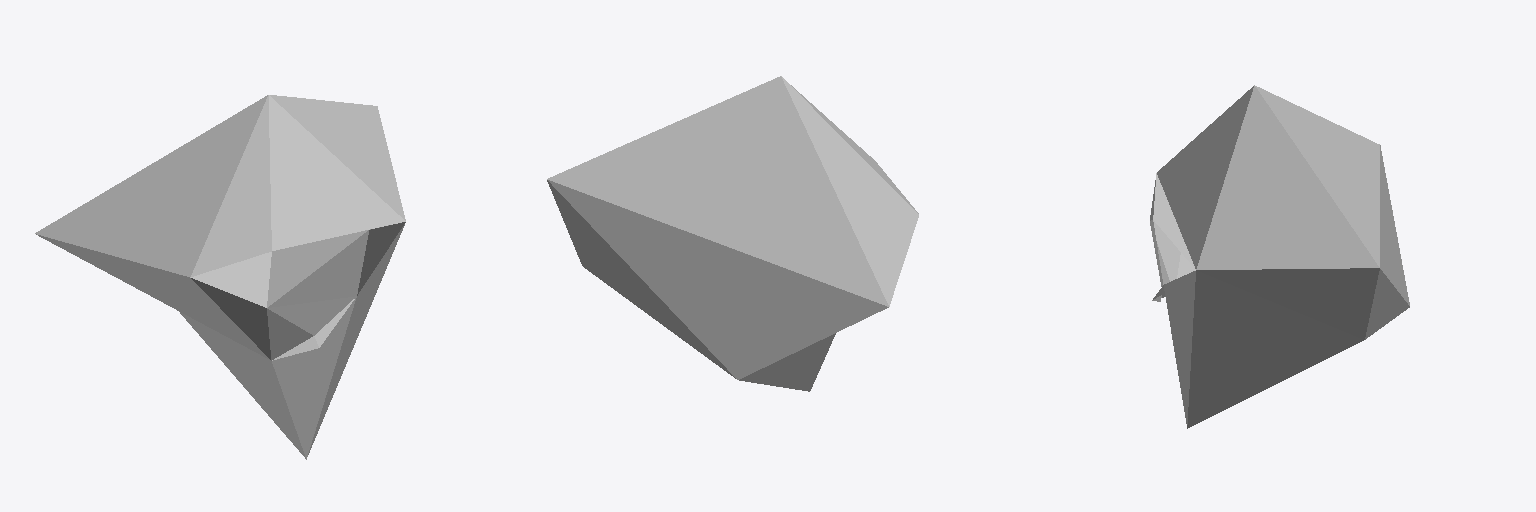
File: monke_lod6.obj
3 views of the same model, side by side, from view 1: azimuth 30°, elevation 25°; view 2: azimuth 150°, elevation 25°; view 3: azimuth 270°, elevation 25° (orthographic).
Parts seen in each view (by area): view 1: Suzanne; view 2: Suzanne; view 3: Suzanne.
Part boxes in pixels (bbox=[...]): Suzanne: bbox=[35, 95, 405, 459]; Suzanne: bbox=[547, 76, 918, 391]; Suzanne: bbox=[1150, 85, 1409, 428].
Size of the model in its own units: 2.03 by 1.93 by 1.34.